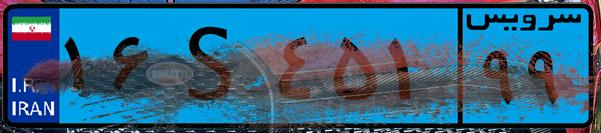1: (385, 28, 445, 110), (57, 26, 110, 100)
4: (270, 28, 330, 110)
5: (330, 28, 385, 110)
6: (110, 28, 158, 98)
9: (475, 38, 525, 113), (525, 38, 570, 115)
S: (158, 12, 270, 120)
